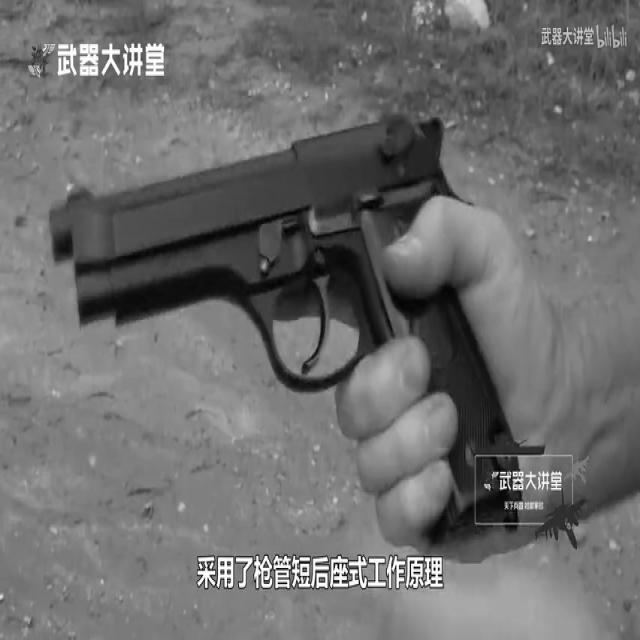Hand-Gun: (38, 103, 529, 538)
